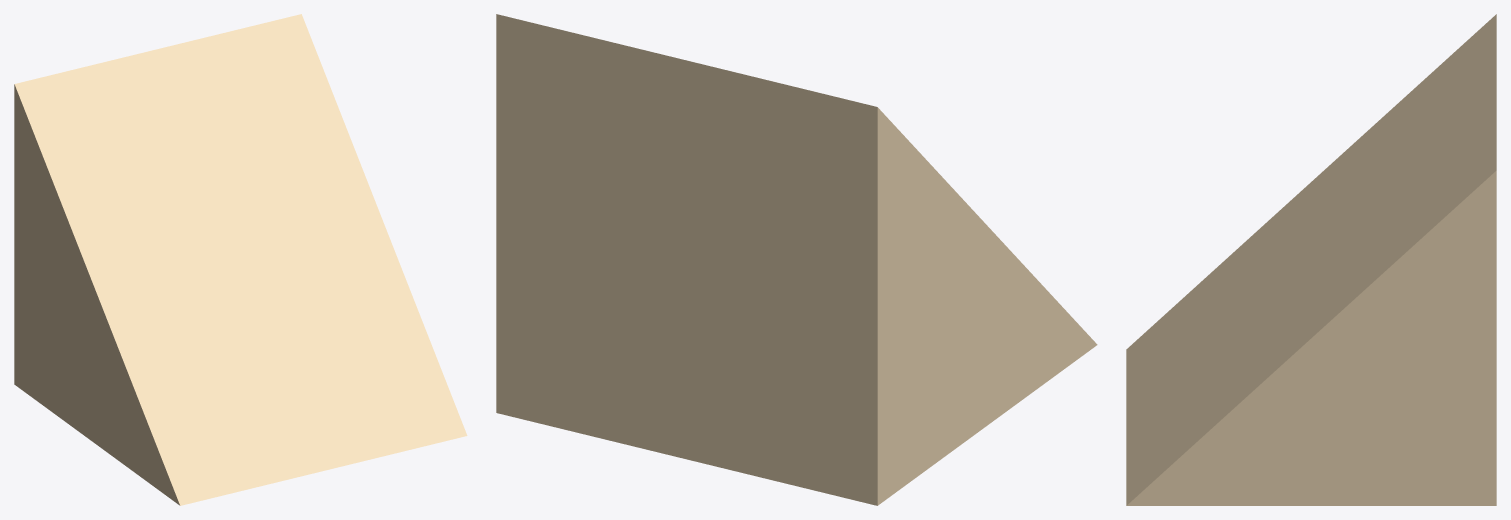
Rendered from toys_wood block_right triangle.fbx.
3 renders of one model, left to right at view 1: azimuth 30°, elevation 25°; view 2: azimuth 150°, elevation 25°; view 3: azimuth 270°, elevation 25°, orthographic. The views are drawn at different scales.
Visible parts, largest first — view 1: Cube.005; view 2: Cube.005; view 3: Cube.005.
Boxes of the visible parts, x1,y1,x2,y2 form: Cube.005: (14, 14, 467, 505); Cube.005: (496, 14, 1097, 505); Cube.005: (1126, 14, 1496, 505).
Bounding box in the file's own units: 200 × 200 × 200.
